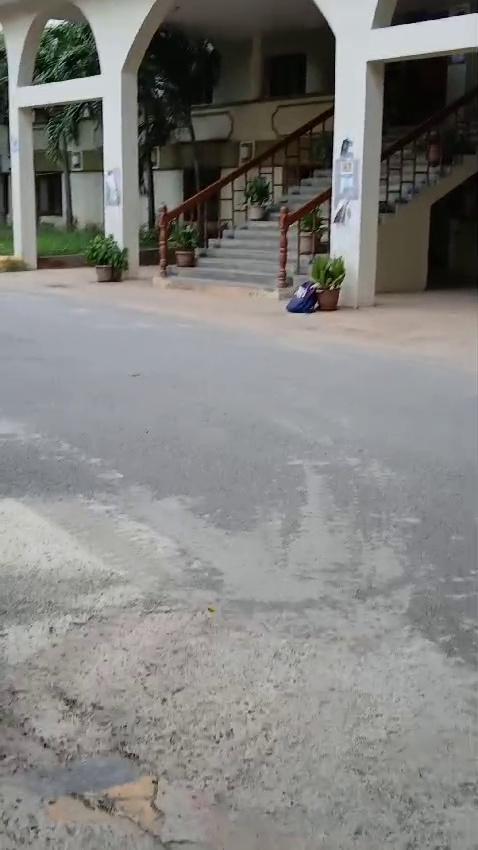bag: (279, 271, 325, 311)
